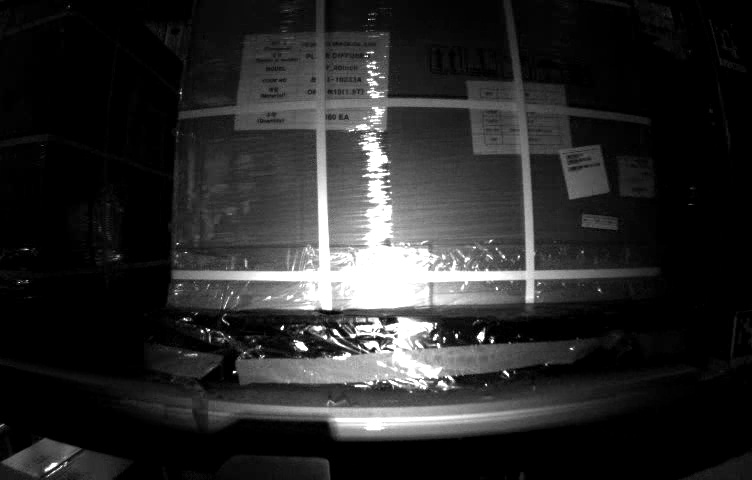True Barcode: (616, 155, 654, 198)
